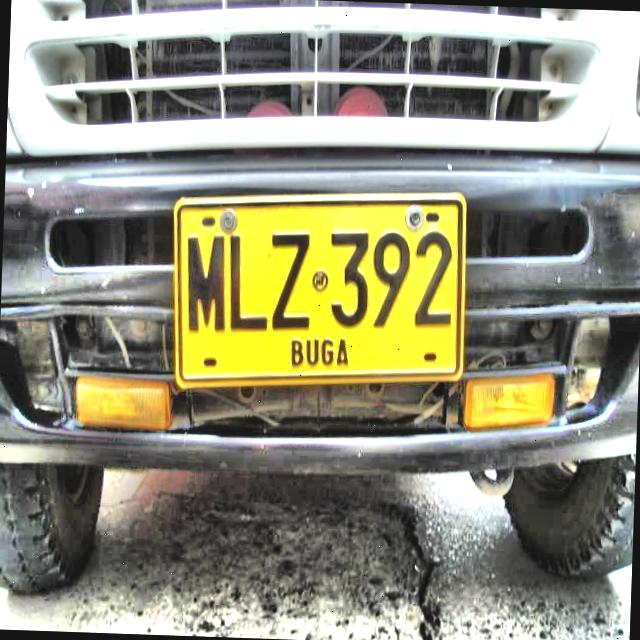2: (410, 229, 455, 329)
3: (328, 227, 372, 332)
9: (370, 228, 416, 330)
L: (226, 231, 270, 333)
M: (185, 232, 227, 334)
Z: (268, 230, 315, 331)
